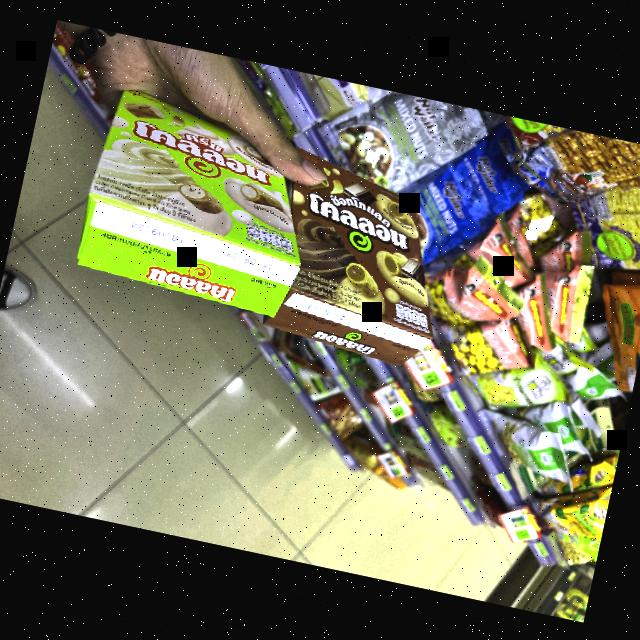cardboard_box: (58, 81, 327, 332), (239, 136, 475, 396)
